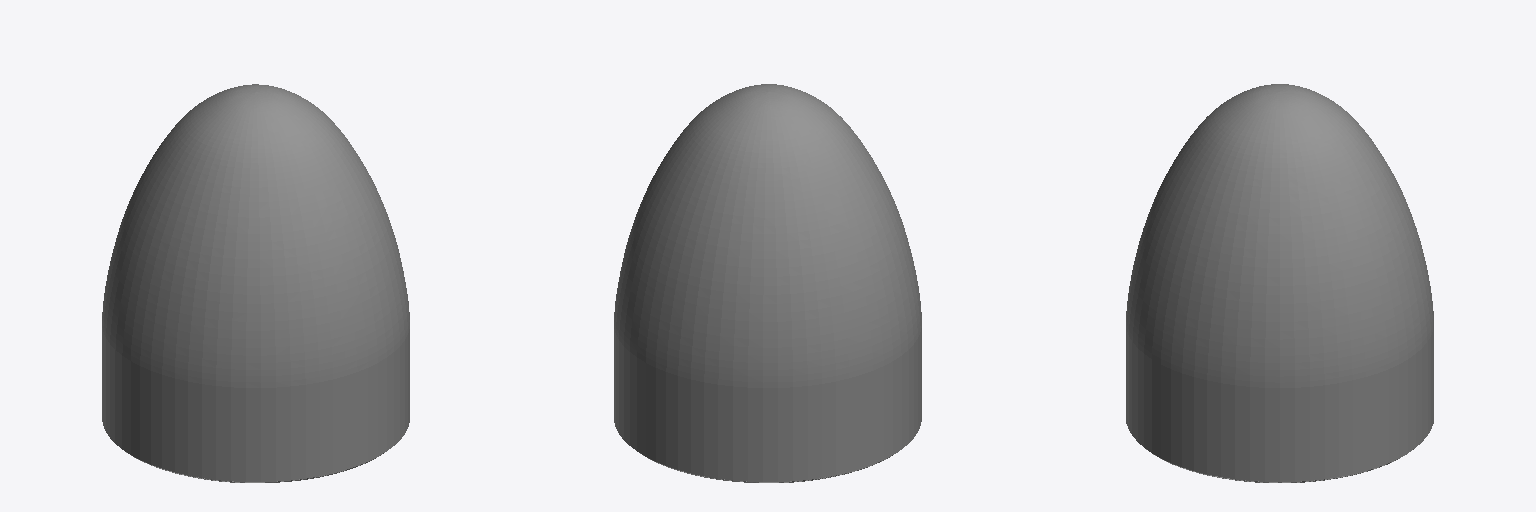
Rendered from bullet.obj.
The picture shows the model from 3 angles: view 1: azimuth 30°, elevation 25°; view 2: azimuth 150°, elevation 25°; view 3: azimuth 270°, elevation 25°; orthographic projection.
Parts seen in each view (by area): view 1: 9mm_Regular; view 2: 9mm_Regular; view 3: 9mm_Regular.
Boxes of the visible parts, <box> form: 9mm_Regular: <box>102,84,409,482</box>; 9mm_Regular: <box>614,84,921,482</box>; 9mm_Regular: <box>1126,84,1433,482</box>.
Bounding box in the file's own units: 0.0119 × 0.014 × 0.0119.